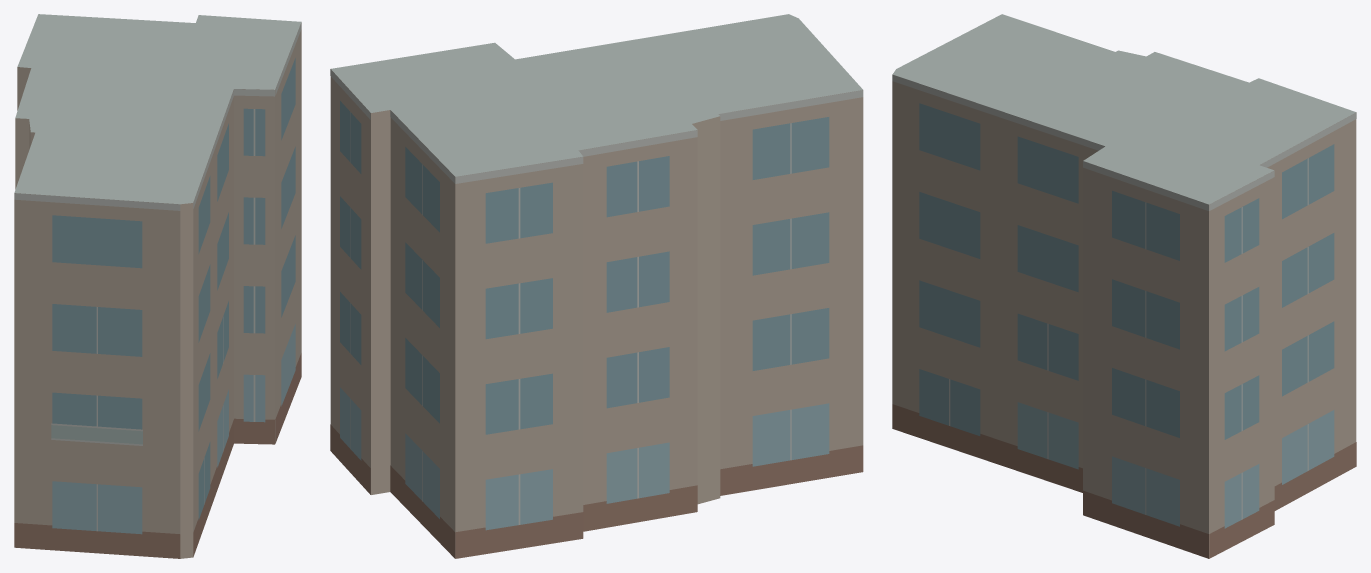
File: survey-upis-32942598.glb
The picture shows the model from 3 angles, left to right: view 1: azimuth 30°, elevation 25°; view 2: azimuth 150°, elevation 25°; view 3: azimuth 270°, elevation 25°; orthographic projection. The views are drawn at different scales.
Visible parts, largest first — view 1: survey-upis-32942598.tmp; view 2: survey-upis-32942598.tmp; view 3: survey-upis-32942598.tmp.
Part boxes in pixels (x1,y1,x2,y2): survey-upis-32942598.tmp: (14, 14, 301, 558); survey-upis-32942598.tmp: (330, 14, 863, 558); survey-upis-32942598.tmp: (892, 14, 1356, 558).
Bounding box in the file's own units: 14.89 × 12.9 × 15.32.
